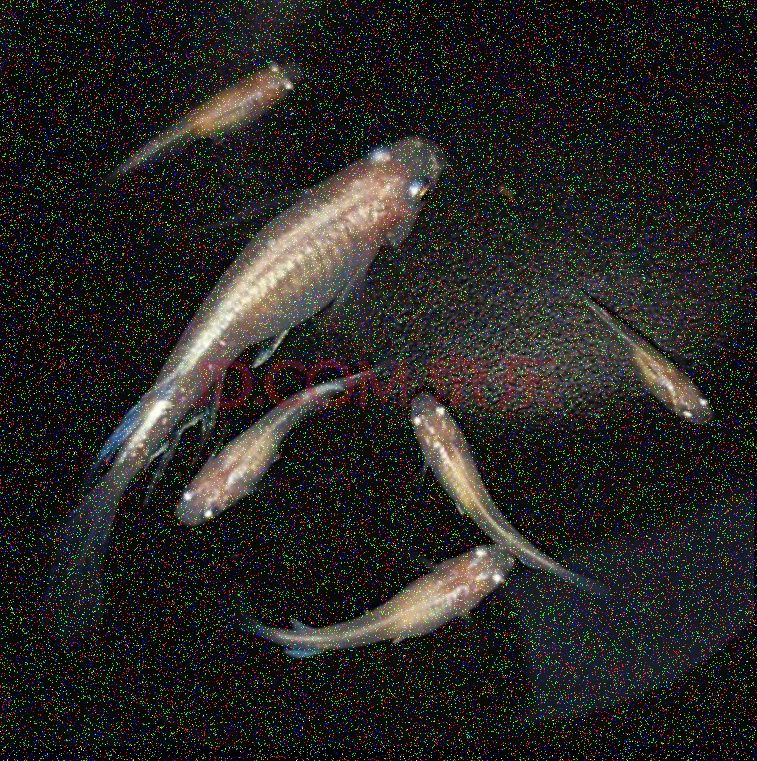fry: (177, 135, 498, 353), (62, 34, 321, 174), (259, 541, 523, 662), (372, 376, 532, 544), (602, 309, 730, 458), (164, 414, 302, 535)
